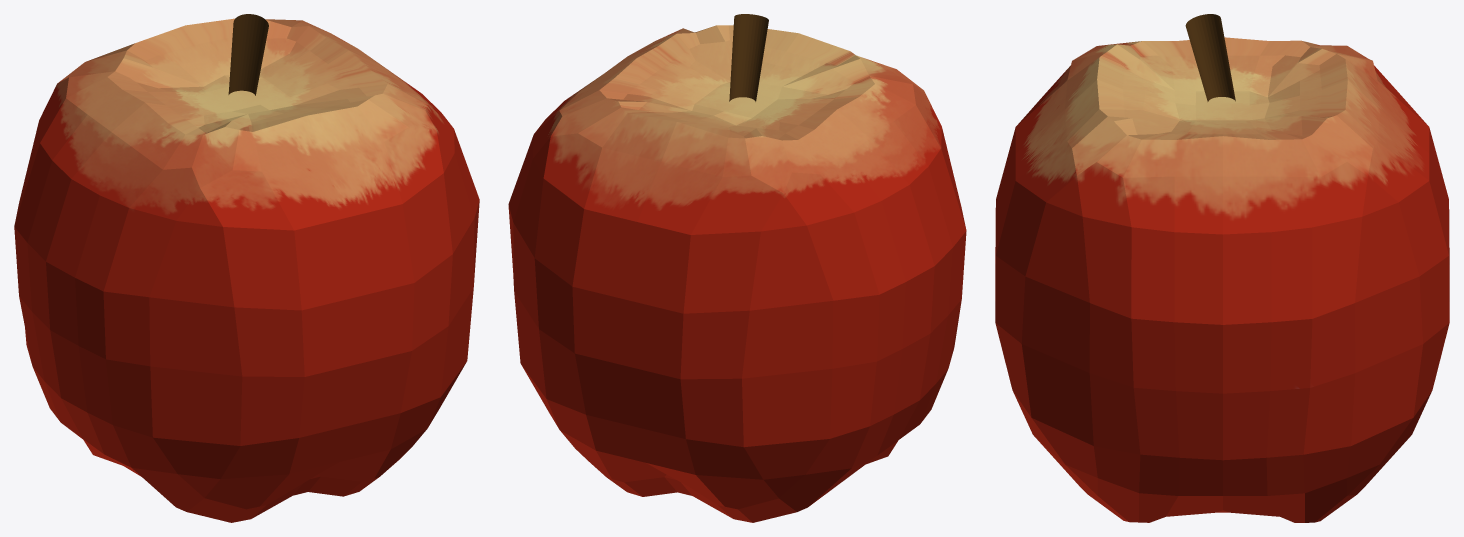
Rendered from apple_model.glb.
3 renders of one model, left to right at view 1: azimuth 30°, elevation 25°; view 2: azimuth 150°, elevation 25°; view 3: azimuth 270°, elevation 25°, orthographic. The views are drawn at different scales.
Parts seen in each view (by area): view 1: Cube; view 2: Cube; view 3: Cube.
Part boxes in pixels (x1=…): Cube: x1=14, y1=14, x2=479, y2=522; Cube: x1=508, y1=14, x2=966, y2=522; Cube: x1=995, y1=14, x2=1449, y2=522.
Size of the model in its own units: 1.59 by 1.73 by 1.53.
1 material, 1 textured.
